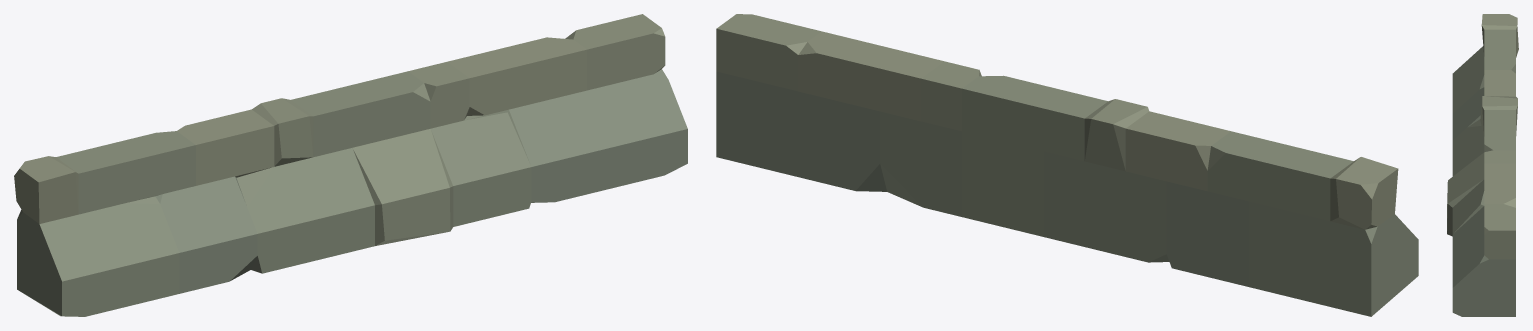
File: wall_paneling_1x4.fbx
3 renders of one model, left to right at view 1: azimuth 30°, elevation 25°; view 2: azimuth 150°, elevation 25°; view 3: azimuth 270°, elevation 25°, orthographic. The views are drawn at different scales.
Parts seen in each view (by area): view 1: wall_paneling_1x4; view 2: wall_paneling_1x4; view 3: wall_paneling_1x4.
Boxes of the visible parts, <box> form: wall_paneling_1x4: <box>14,14,687,316</box>; wall_paneling_1x4: <box>716,14,1418,316</box>; wall_paneling_1x4: <box>1447,14,1518,316</box>.
Size of the model in its own units: 401 by 77.53 by 56.62.
